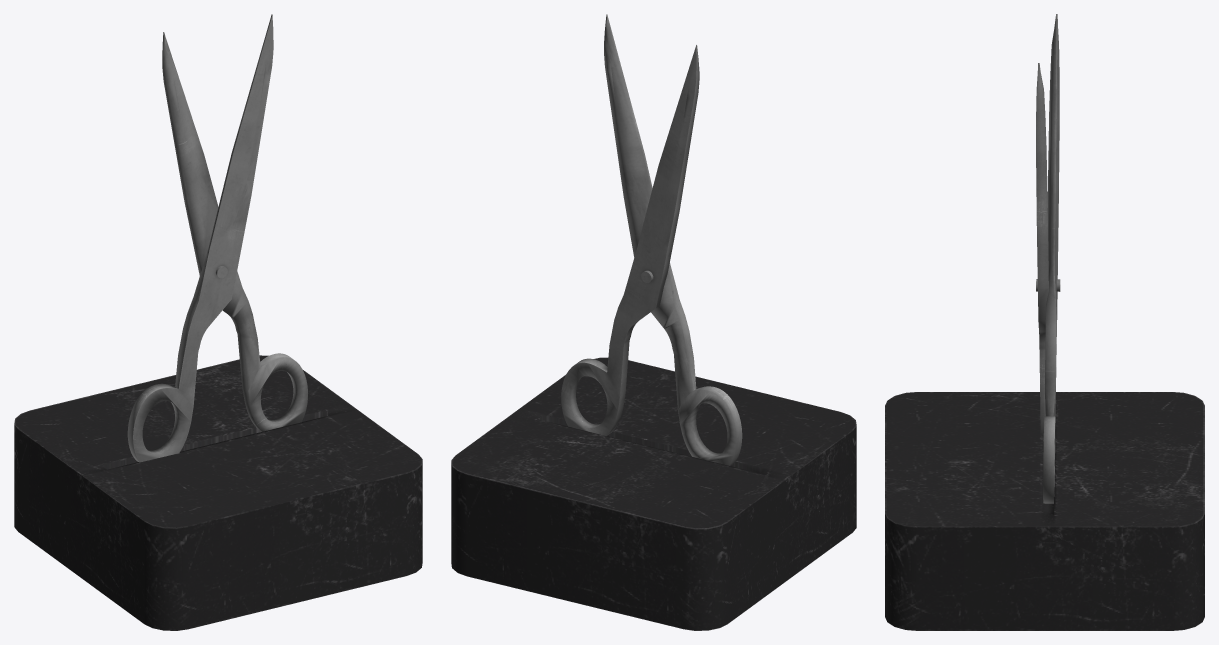
Rendered from skare_tekstura.fbx.
3 views of the same model, side by side, from view 1: azimuth 30°, elevation 25°; view 2: azimuth 150°, elevation 25°; view 3: azimuth 270°, elevation 25° (orthographic).
Visible parts, largest first — view 1: Cube.001; view 2: Cube.001; view 3: Cube.001.
Part boxes in pixels (<box>): Cube.001: <box>14,14,422,630</box>; Cube.001: <box>451,14,856,630</box>; Cube.001: <box>885,14,1204,630</box>.
Bounding box in the file's own units: 43.22 × 78.33 × 43.22.
Materials: 1 (1 with a texture image).
